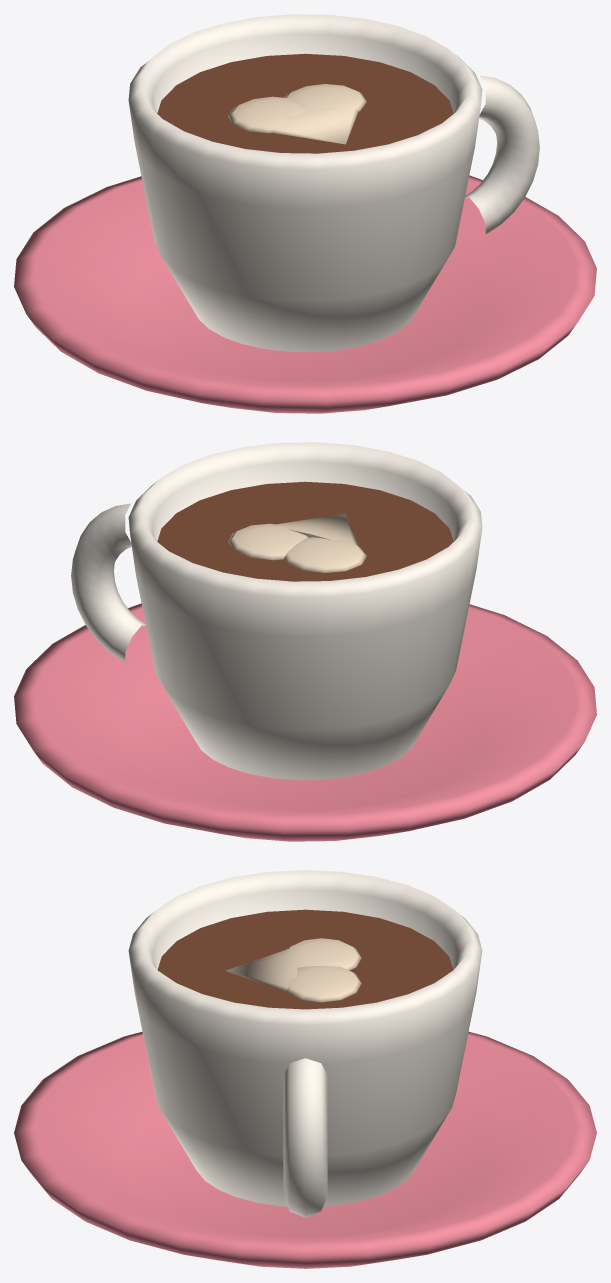
Rendered from food_latte.glb.
3 renders of one model, top to bottom at view 1: azimuth 30°, elevation 25°; view 2: azimuth 150°, elevation 25°; view 3: azimuth 270°, elevation 25°, orthographic.
Visible parts, largest first — view 1: Latte; view 2: Latte; view 3: Latte.
Part boxes in pixels (x1,y1,x2,y2): Latte: (14, 14, 596, 413); Latte: (14, 442, 596, 841); Latte: (14, 870, 596, 1268).
Bounding box in the file's own units: 0.29 × 0.134 × 0.29.
